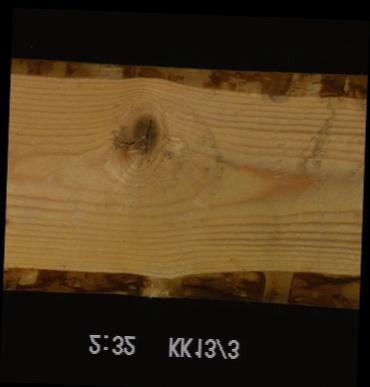sound_knot: (127, 114, 162, 160)
split: (100, 131, 145, 151)
wave: (2, 262, 359, 302), (9, 62, 366, 96)
